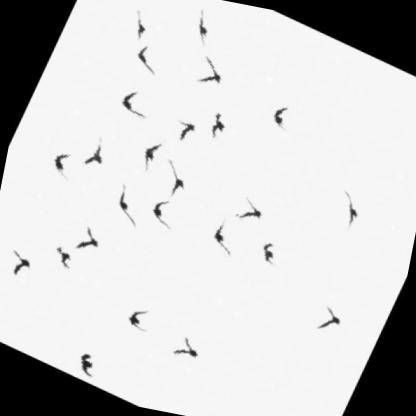bird: (102, 177, 154, 231), (146, 152, 197, 203), (202, 209, 247, 262), (178, 2, 224, 51), (325, 186, 370, 236), (186, 50, 233, 95), (113, 81, 159, 124), (76, 129, 116, 177), (131, 127, 170, 176), (144, 191, 188, 232), (309, 296, 349, 337), (229, 192, 270, 231), (118, 3, 156, 44), (45, 145, 86, 183), (129, 39, 167, 77), (70, 220, 108, 258), (169, 331, 206, 367), (0, 244, 36, 280), (264, 97, 297, 134), (201, 106, 234, 143), (168, 112, 202, 147), (122, 301, 156, 335), (254, 234, 287, 269), (45, 240, 78, 274), (71, 347, 102, 380)
